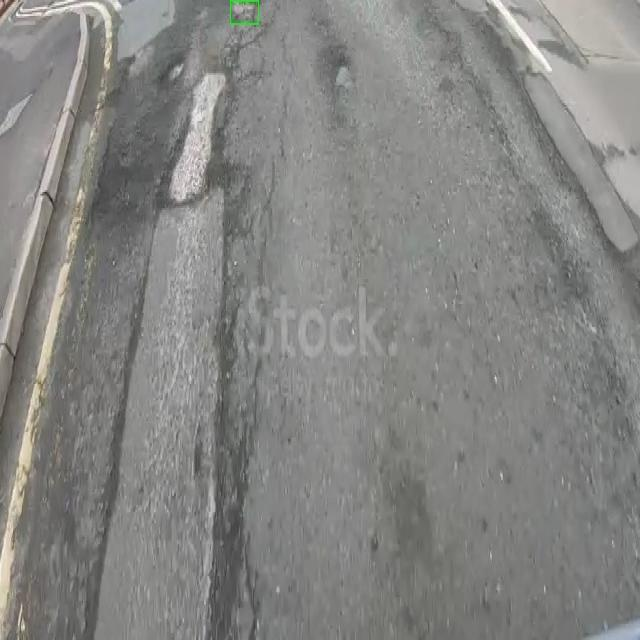pothole: (316, 38, 360, 98), (157, 51, 186, 94), (233, 2, 257, 20)
